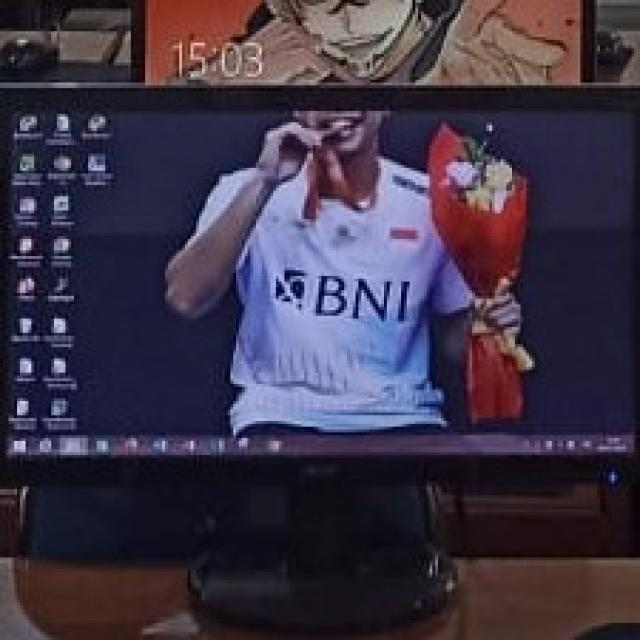onscreen: (1, 84, 640, 456), (145, 0, 582, 84)
